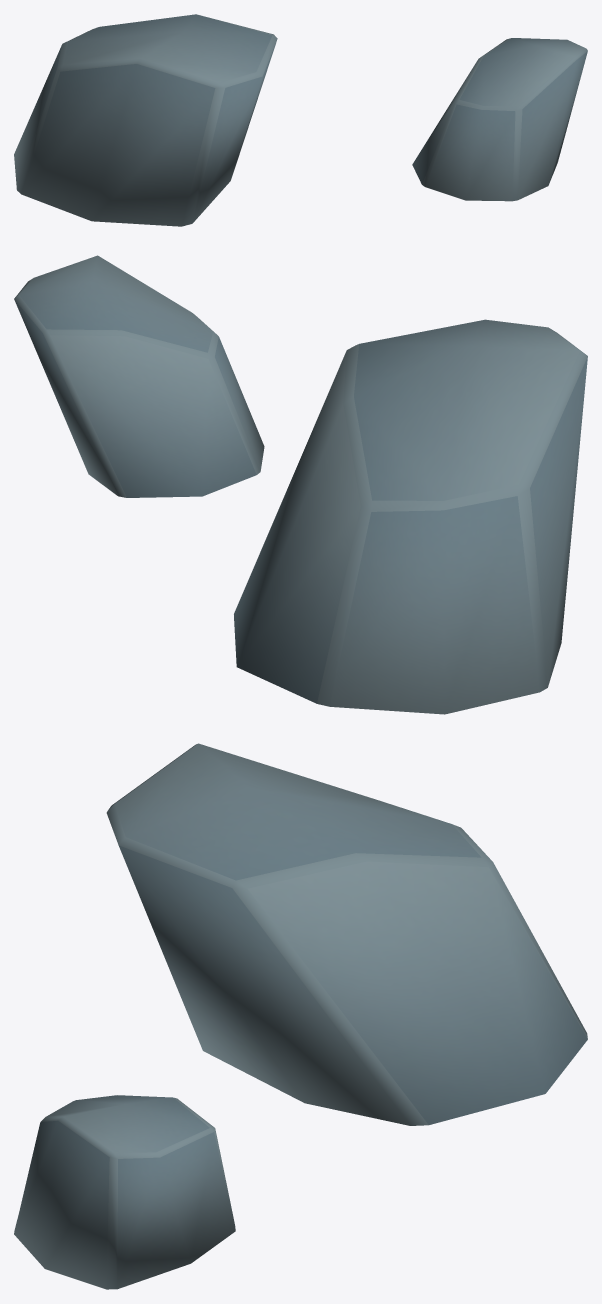
Rendered from Stone_lvl_01.fbx.
3 renders of one model, top to bottom at view 1: azimuth 30°, elevation 25°; view 2: azimuth 150°, elevation 25°; view 3: azimuth 270°, elevation 25°, orthographic. The views are drawn at different scales.
Parts seen in each view (by area): view 1: Stone_lvl_01; view 2: Stone_lvl_01; view 3: Stone_lvl_01.
Boxes of the visible parts, left/top/right/bottom form: Stone_lvl_01: left=14, top=14, right=587, bottom=226; Stone_lvl_01: left=14, top=255, right=587, bottom=714; Stone_lvl_01: left=14, top=743, right=587, bottom=1289.
Size of the model in its own units: 0.3768 by 0.1396 by 0.2674.
